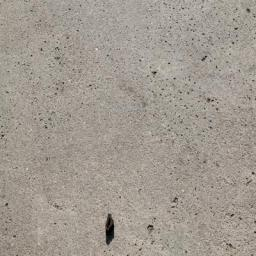FOD: (103, 210, 118, 249)
